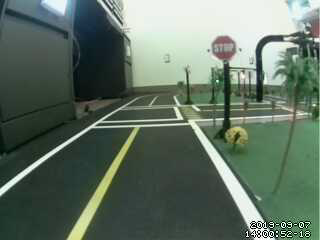Stop_Sign: (209, 33, 242, 66)
